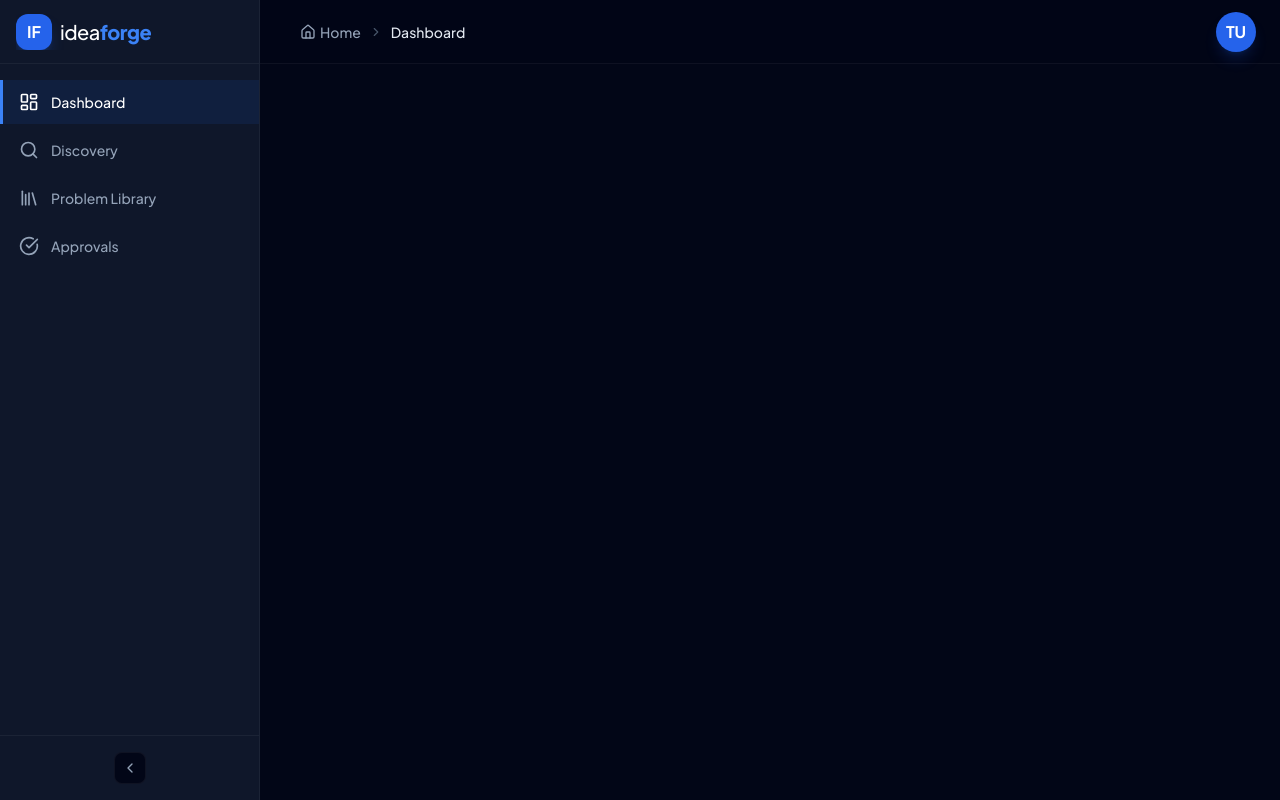
Scenario: should have logout option
Click avatar to open dropdown
What coordinates should you click on to do the following:
click the button "TU"
I would click on:
 (1236, 32)
Its box is [1216,12,1256,52].
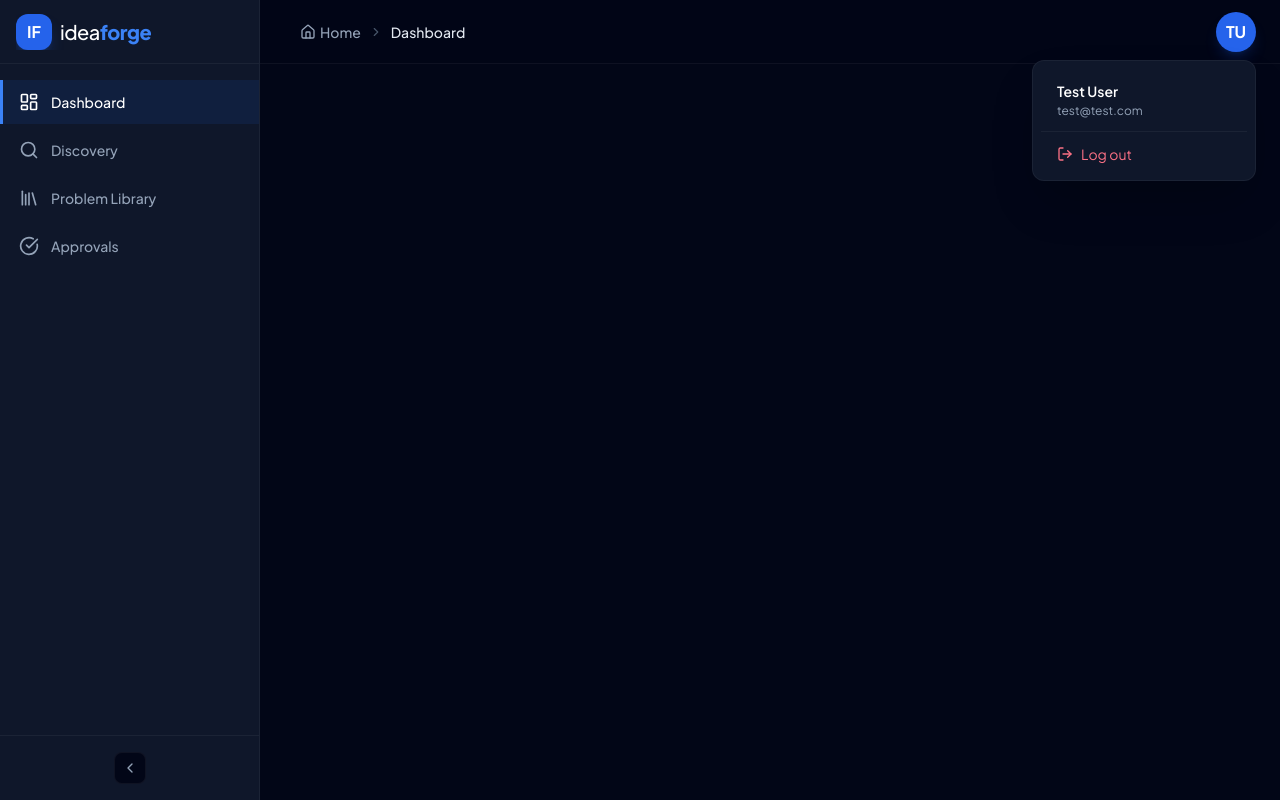
Now the text "Log out" is shown, box [1081,144,1132,164]
